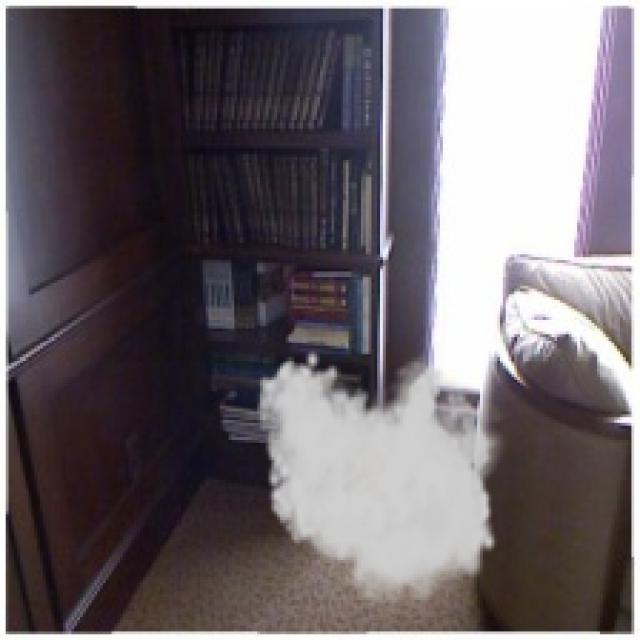smoke: (254, 349, 512, 614)
